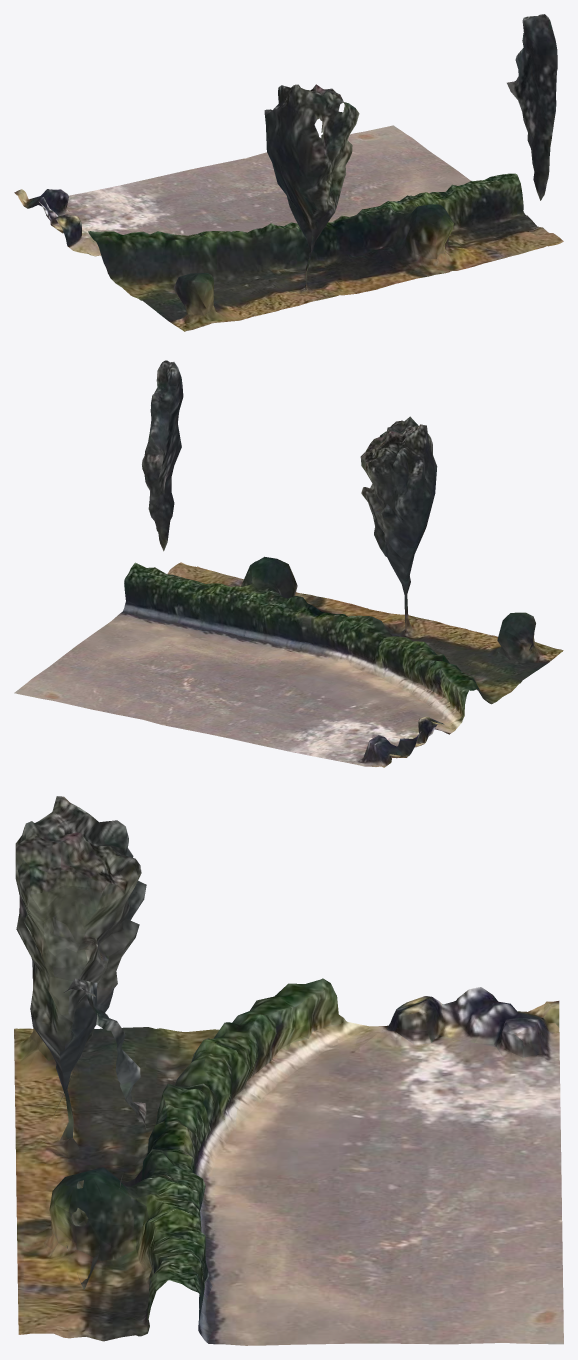
Rendered from Tile_+006_+007_L22_0003220.glb.
The picture shows the model from 3 angles, top to bottom: view 1: azimuth 30°, elevation 25°; view 2: azimuth 150°, elevation 25°; view 3: azimuth 270°, elevation 25°; orthographic projection. The views are drawn at different scales.
Parts seen in each view (by area): view 1: rtc; view 2: rtc; view 3: rtc.
Boxes of the visible parts, bbox=[...] form: rtc: bbox=[14, 14, 563, 331]; rtc: bbox=[14, 360, 563, 767]; rtc: bbox=[14, 796, 563, 1345].
Size of the model in its own units: 9.02 by 5.01 by 6.94.
Materials: 1 (1 with a texture image).
